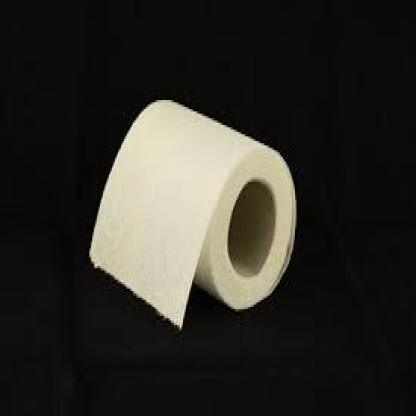tissue: (85, 94, 297, 330)
